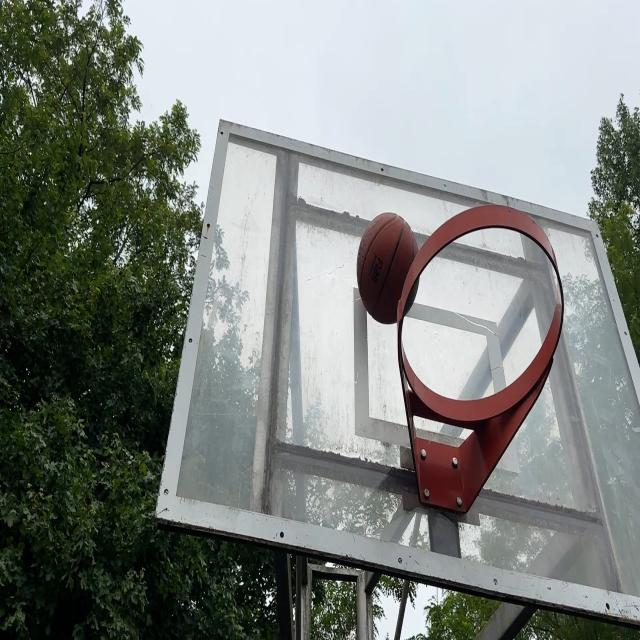rebound_hit: (358, 212, 420, 324)
